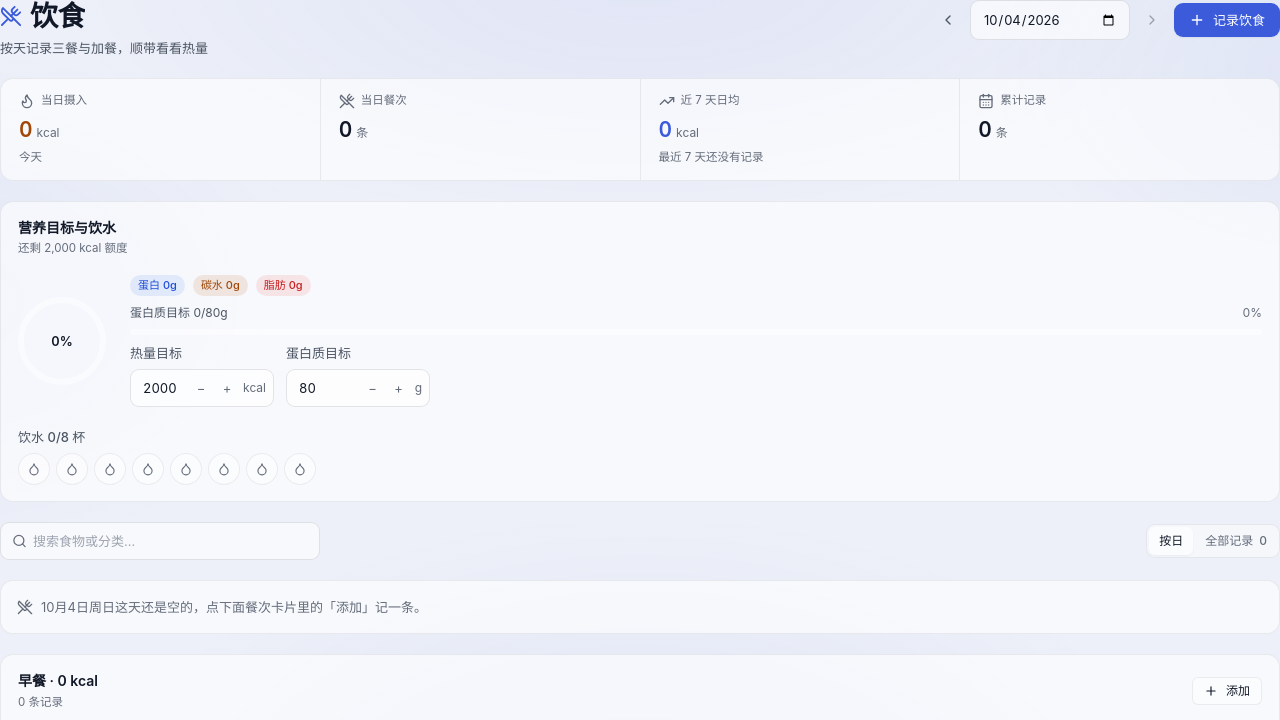
DietPage › 食物名为空时不能保存，添加多个食物会累加热量
Click the button "记录饮食" at coordinates (1227, 20), box [1174,3,1279,37]
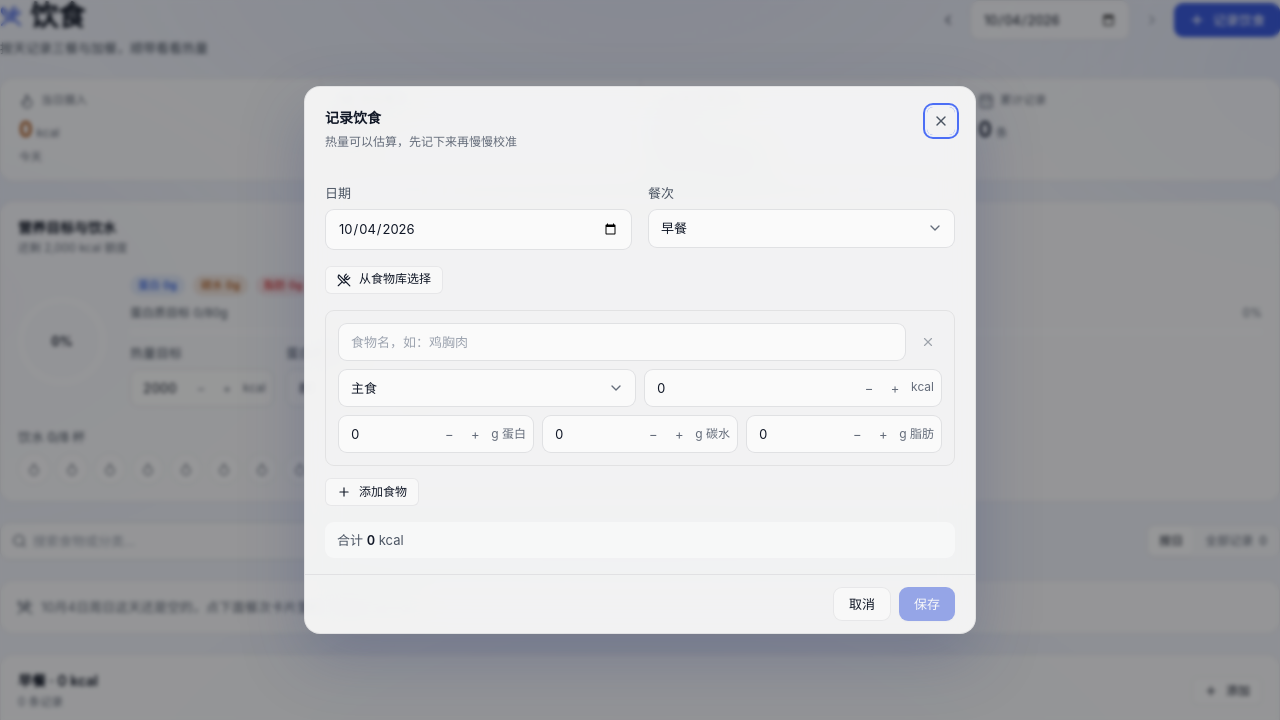
Result: the button "保存" is disabled at [899,587,955,621]
Type "全麦面包" into the field named "第 1 个食物名称" at coordinates (622, 342), box [338,322,906,361]
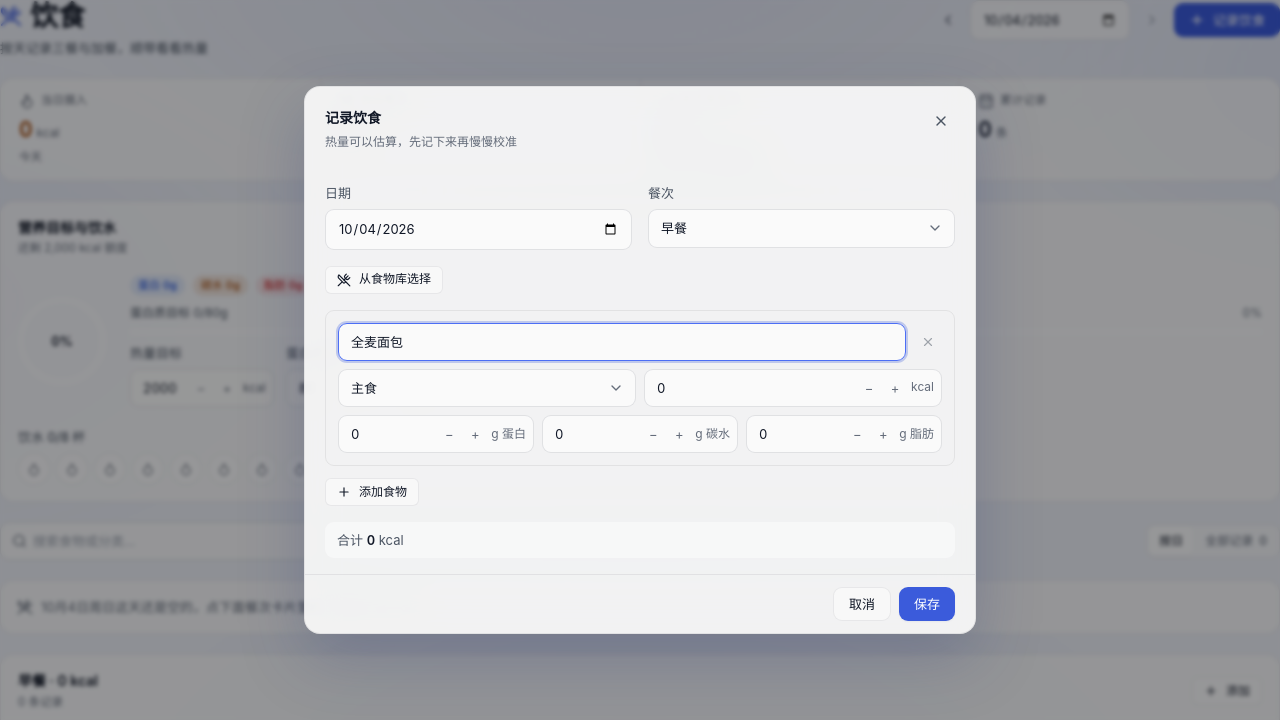
Click the button "添加食物" at coordinates (372, 492), box [325,478,419,506]
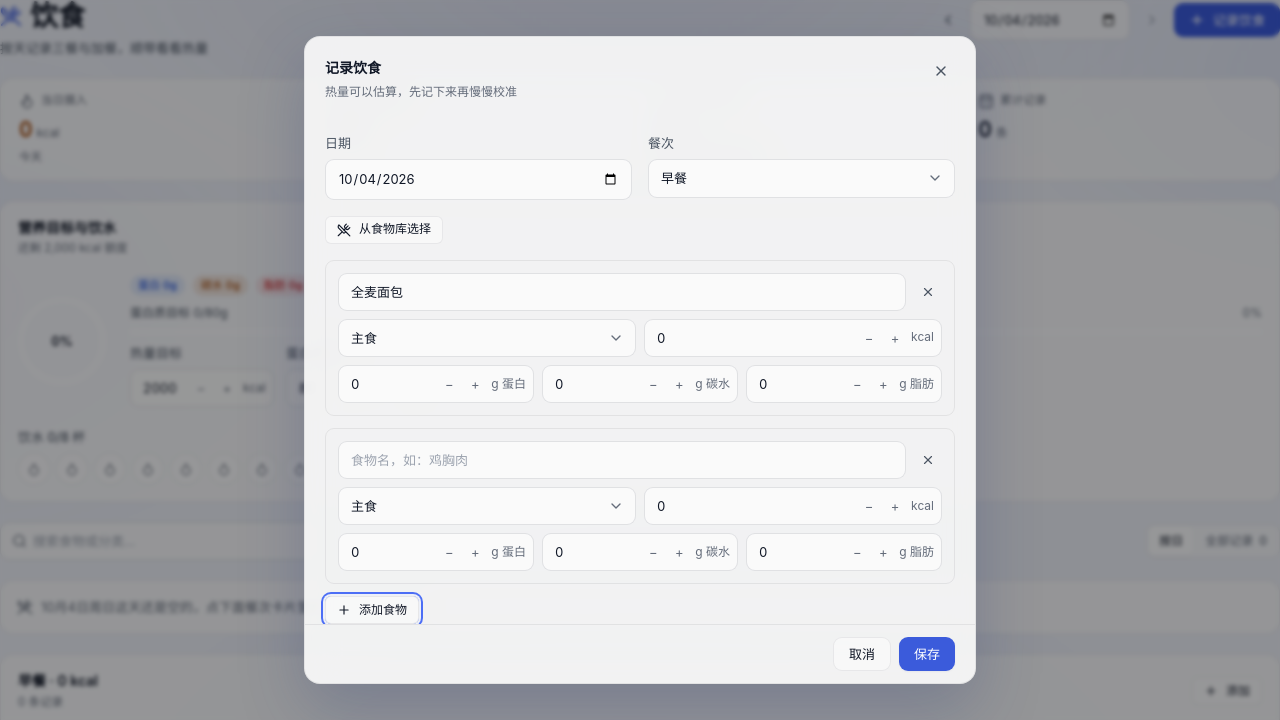
Type "牛奶" into the field named "第 2 个食物名称" at coordinates (622, 460), box [338,441,906,479]
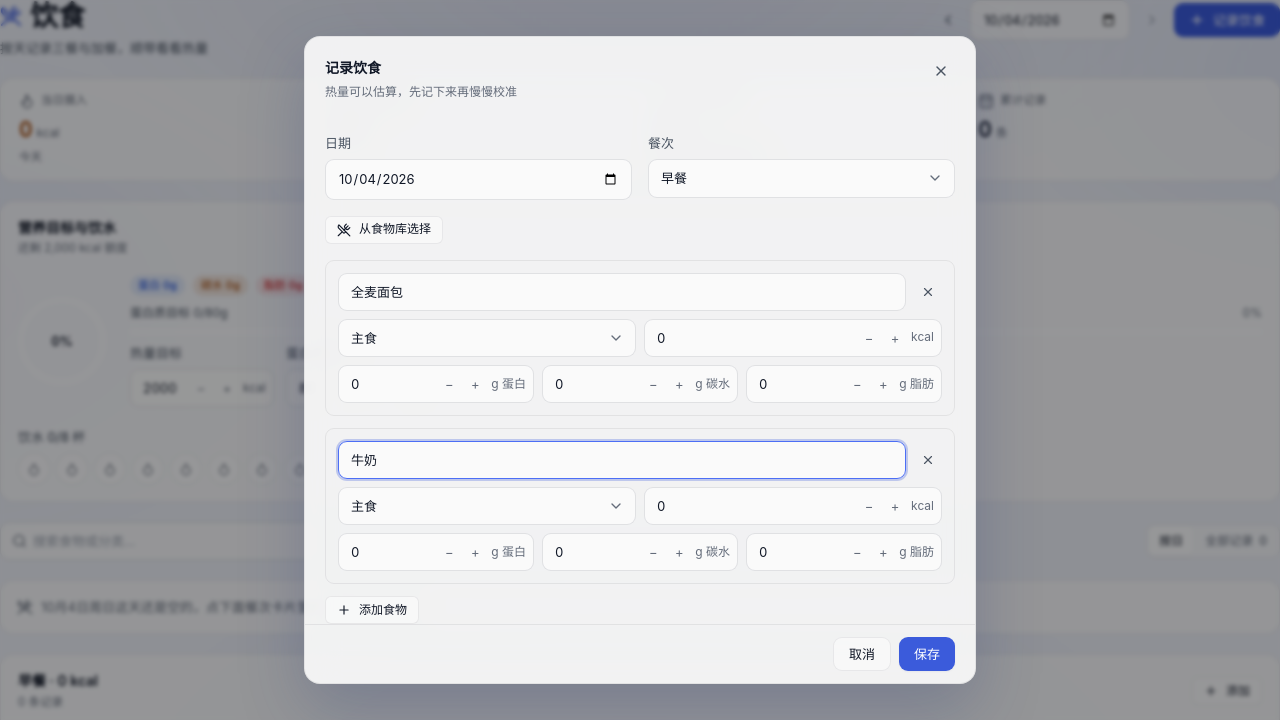
Replace the text in the number field named "第 2 个食物的热量" with "150" at coordinates (793, 506), box [644,487,942,525]
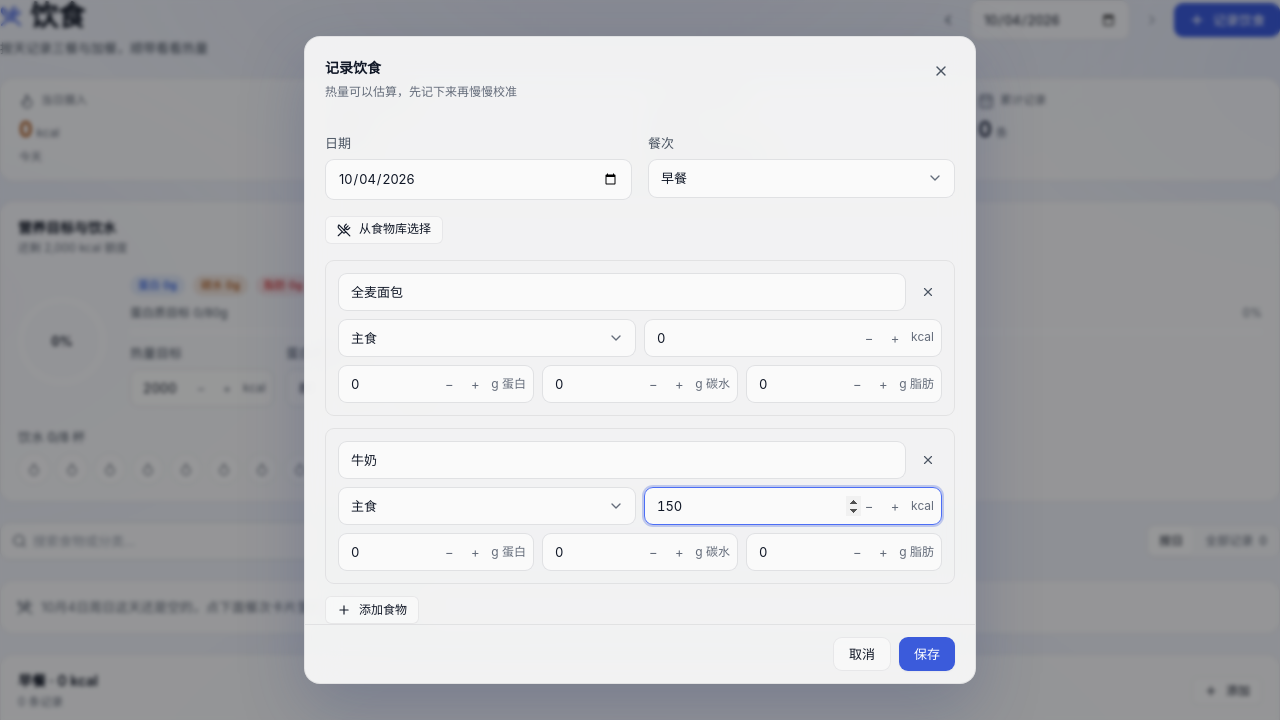
Click the button named "移除第 2 个食物" at coordinates (928, 460), box [914,446,942,474]
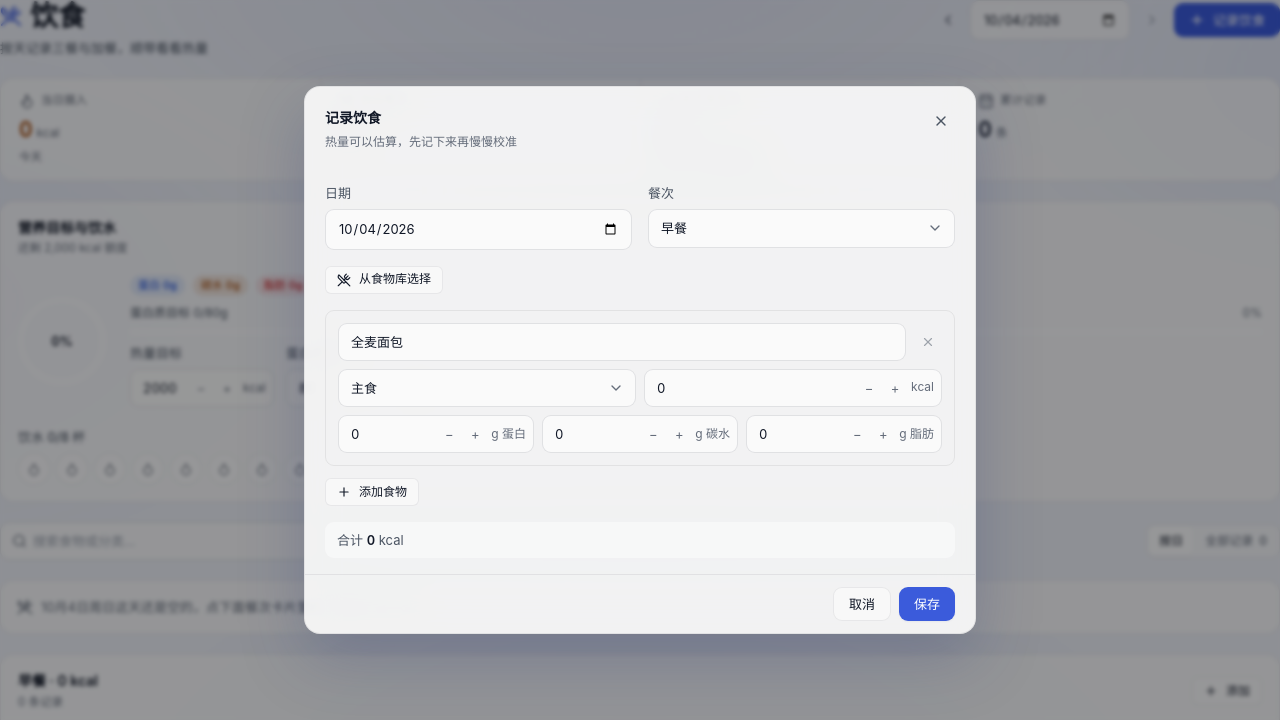
Result: the button named "移除第 1 个食物" is disabled at [914,328,942,356]
